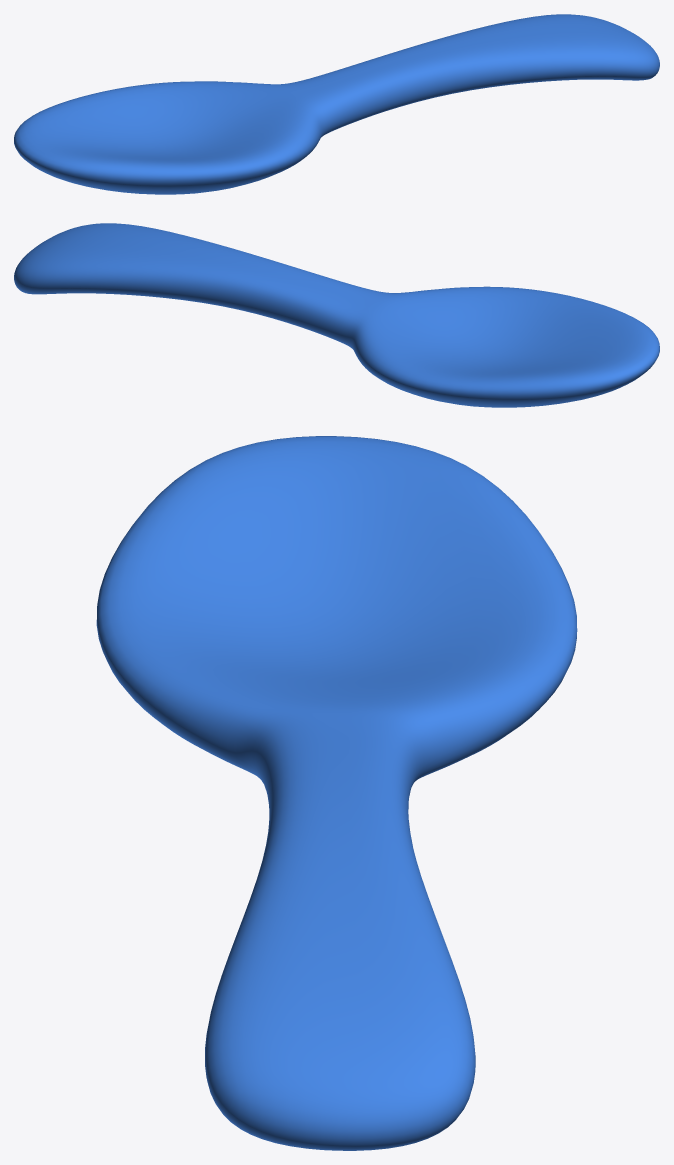
Rendered from Spoon.fbx.
3 renders of one model, top to bottom at view 1: azimuth 30°, elevation 25°; view 2: azimuth 150°, elevation 25°; view 3: azimuth 270°, elevation 25°, orthographic. The views are drawn at different scales.
Parts seen in each view (by area): view 1: SM_Spoon; view 2: SM_Spoon; view 3: SM_Spoon.
Part boxes in pixels (bbox=[...]): SM_Spoon: bbox=[14, 14, 659, 194]; SM_Spoon: bbox=[14, 223, 659, 407]; SM_Spoon: bbox=[96, 436, 577, 1150].
Size of the model in its own units: 56 by 5.69 by 18.76.
